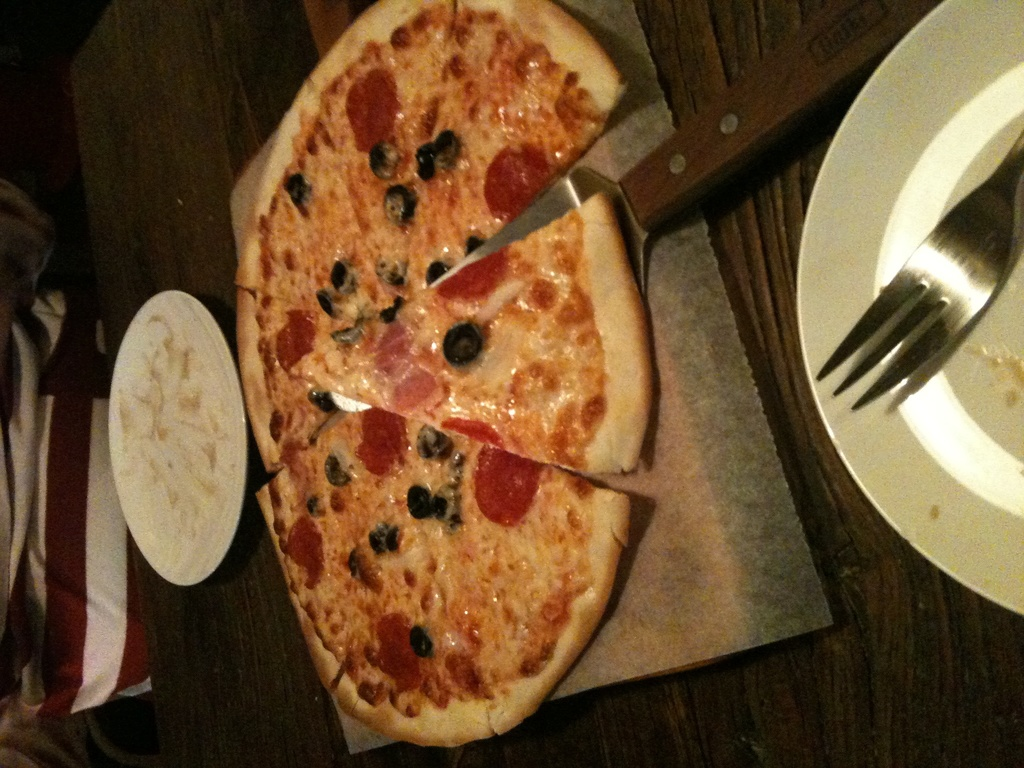Pizza: (233, 0, 657, 753), (285, 184, 691, 473)
